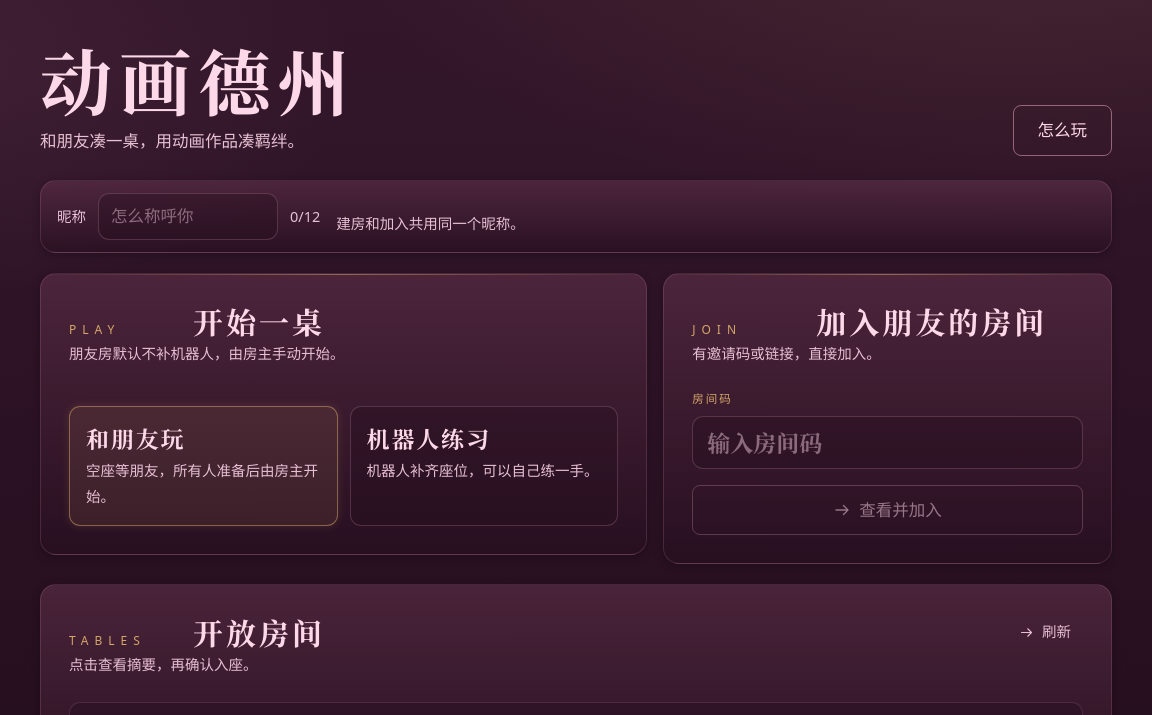
Test case: LobbyPage 房间列表三态 › 刷新失败保留上次成功列表并显示「更新失败」
Step 1. Click the button with test id "rooms-refresh" → (1045,632), box [1007,614,1083,651]
(page scrolled)
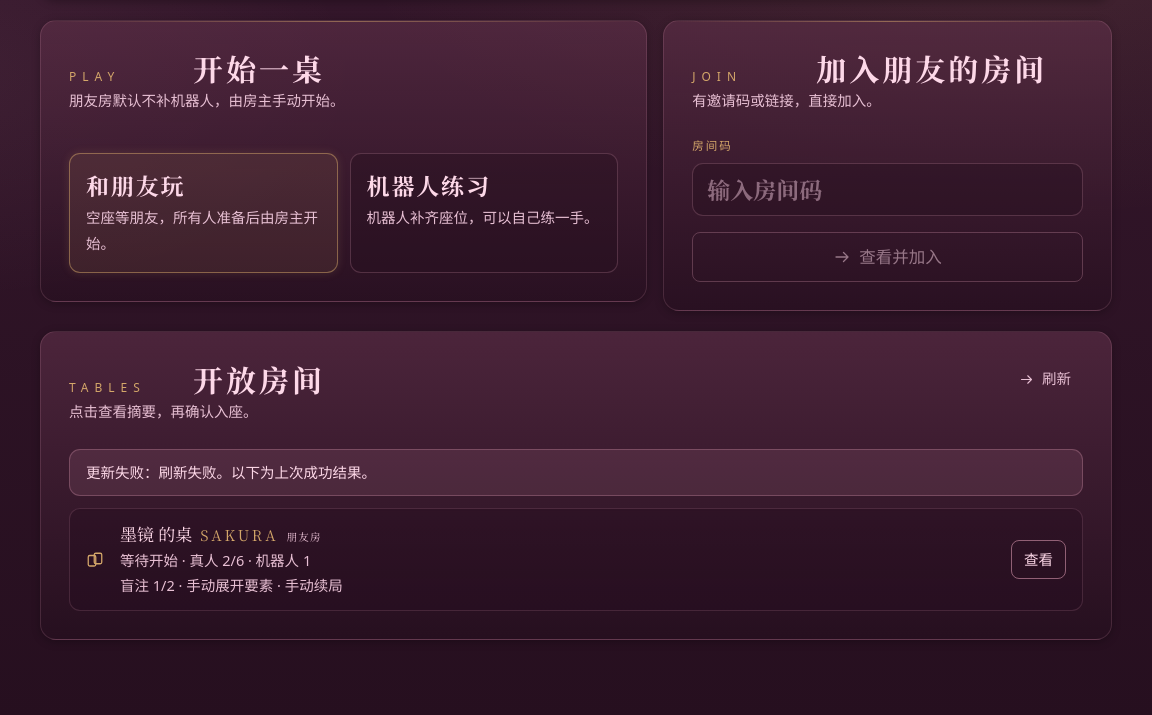
Expected: the text "SAKURA" is shown, [200,524,279,545]
Expected: the message "更新失败：刷新失败。以下为上次成功结果。" is shown, [69,449,1083,496]
